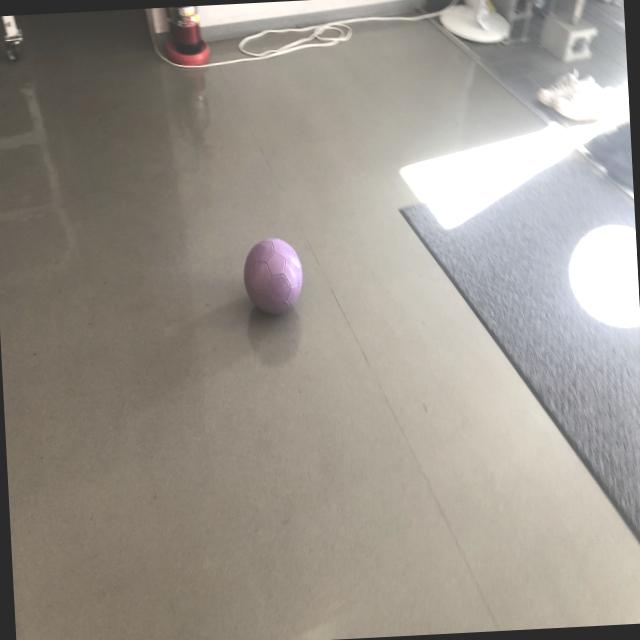purple_ball: (241, 236, 306, 320)
